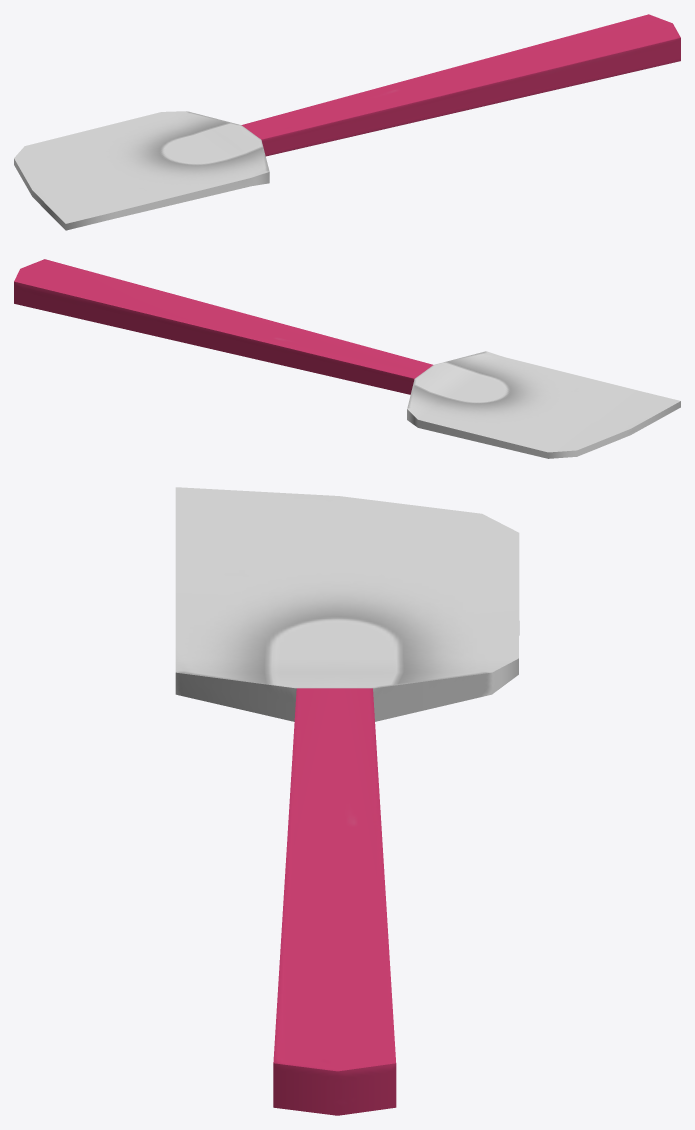
File: Spatula_01.fbx
3 renders of one model, top to bottom at view 1: azimuth 30°, elevation 25°; view 2: azimuth 150°, elevation 25°; view 3: azimuth 270°, elevation 25°, orthographic. The views are drawn at different scales.
Visible parts, largest first — view 1: Spatula_02; view 2: Spatula_02; view 3: Spatula_02.
Boxes of the visible parts, <box> form: Spatula_02: <box>14,14,680,230</box>; Spatula_02: <box>14,259,680,458</box>; Spatula_02: <box>175,487,519,1115</box>.
Bounding box in the file's own units: 96.79 × 3.31 × 23.23.
